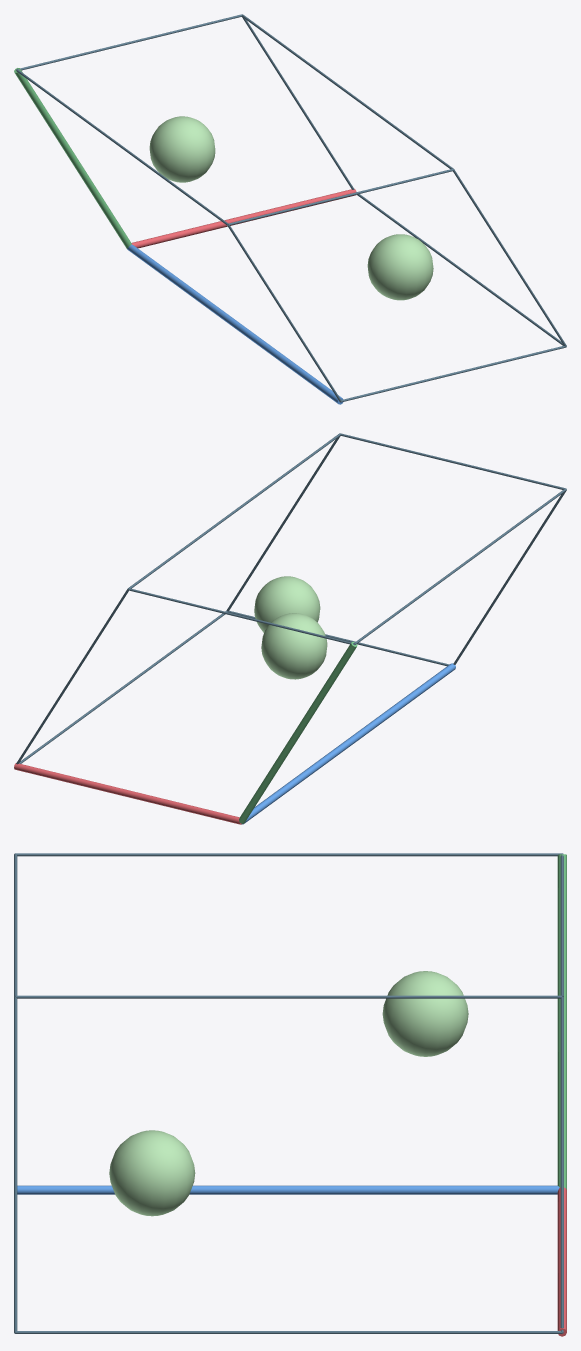
The model's file is nguyen-to-co.glb.
3 renders of one model, top to bottom at view 1: azimuth 30°, elevation 25°; view 2: azimuth 150°, elevation 25°; view 3: azimuth 270°, elevation 25°, orthographic. The views are drawn at different scales.
Parts seen in each view (by area): view 1: Ô mạng và các trục a, b, c, Co · Co · 1 (×2); view 2: Ô mạng và các trục a, b, c, Co · Co · 1 (×2); view 3: Ô mạng và các trục a, b, c, Co · Co · 1 (×2).
Part boxes in pixels (x1,y1,x2,y2): Ô mạng và các trục a, b, c: [14, 14, 566, 404]; Co · Co · 1 (×2): [149, 116, 433, 300]; Ô mạng và các trục a, b, c: [14, 433, 566, 824]; Co · Co · 1 (×2): [254, 576, 327, 679]; Ô mạng và các trục a, b, c: [14, 853, 566, 1336]; Co · Co · 1 (×2): [109, 971, 468, 1216].
Size of the model in its own units: 3.8 by 2.22 by 4.12.
